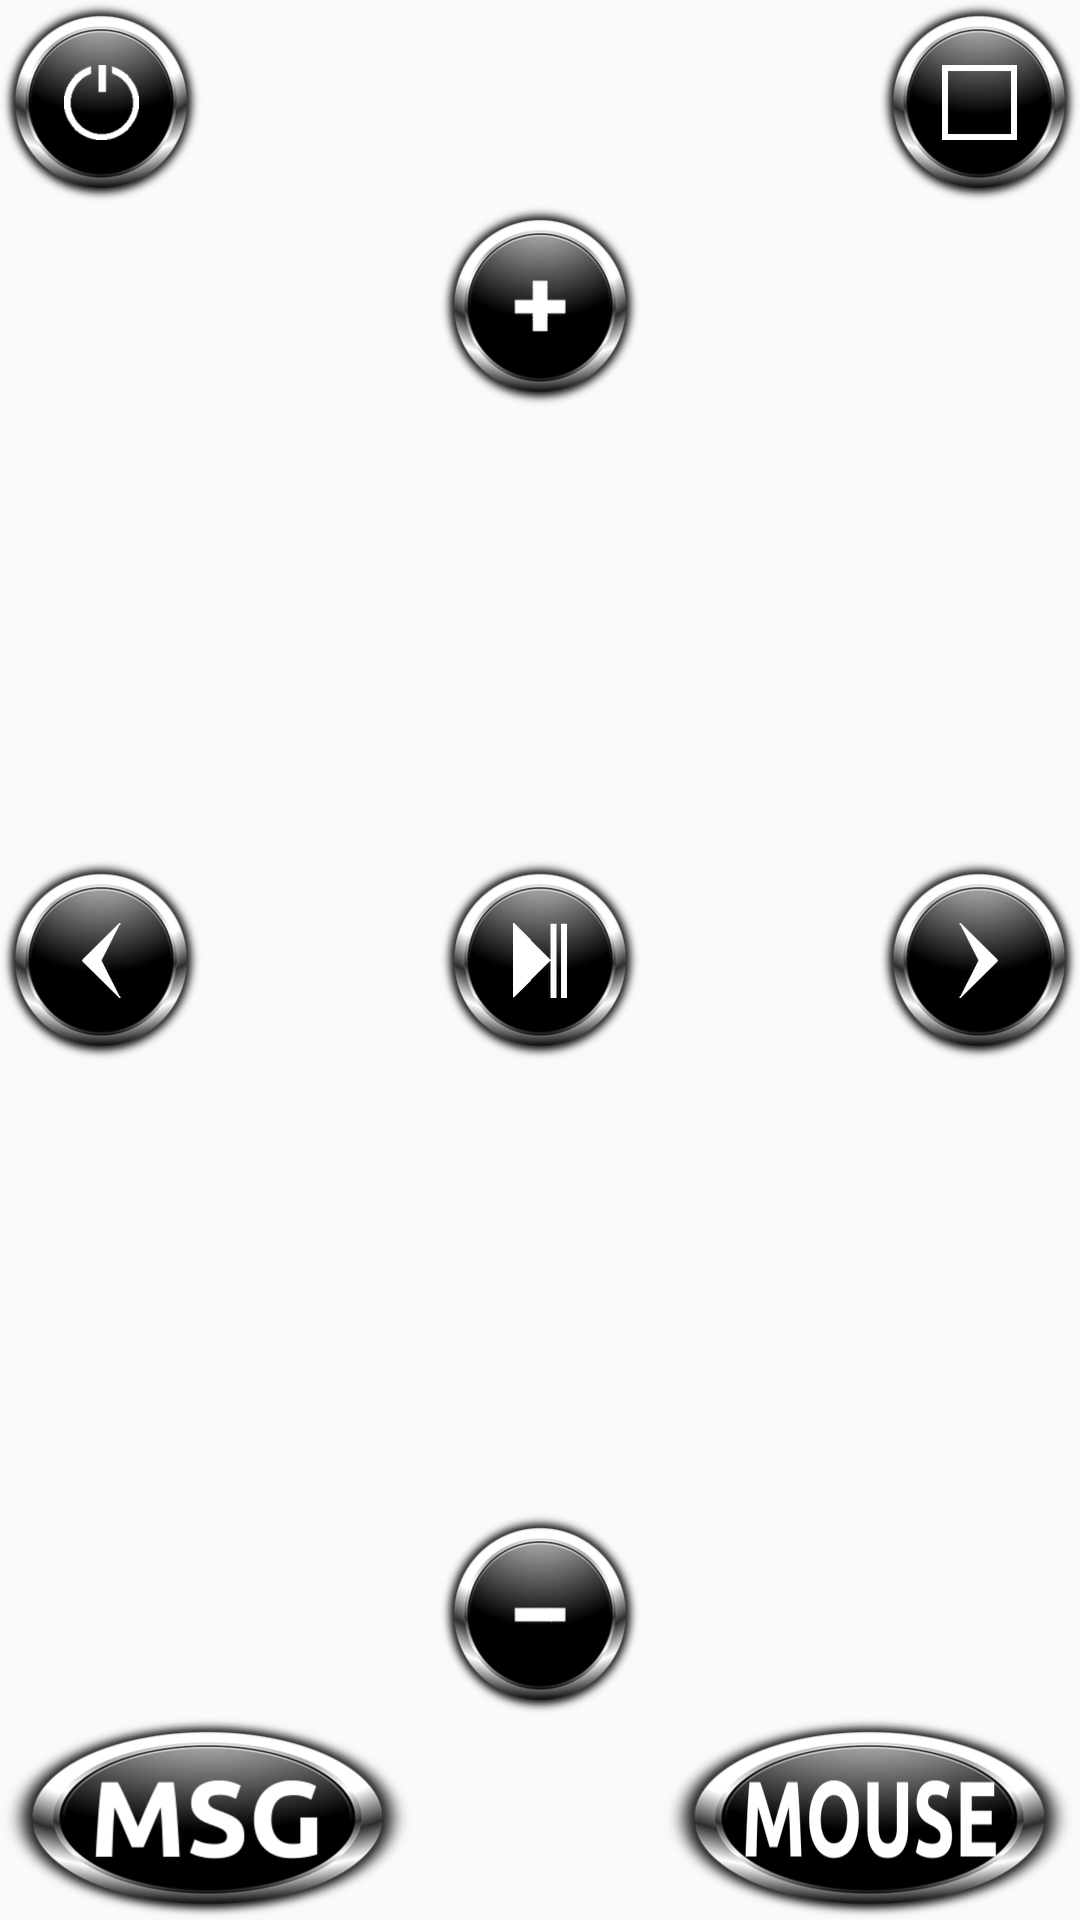

Icons on this 1080 × 1920 Android screen, each with the point to tap as [x,y]:
Next: [979,960]
Play/Pause: [540,960]
Previous: [101,960]
Shut down the computer: [101,102]
Stop: [979,102]
Volume down: [540,1614]
Volume up: [540,306]
